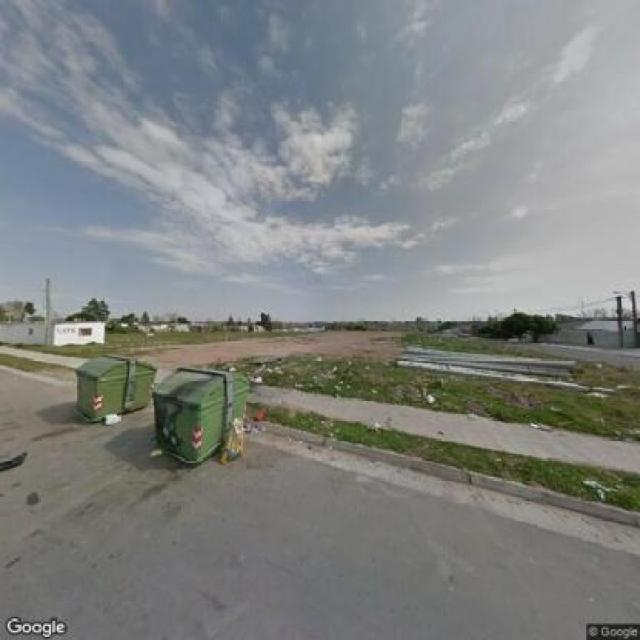garbage: (223, 360, 280, 387), (220, 413, 245, 469), (94, 403, 122, 430), (415, 382, 438, 410)
